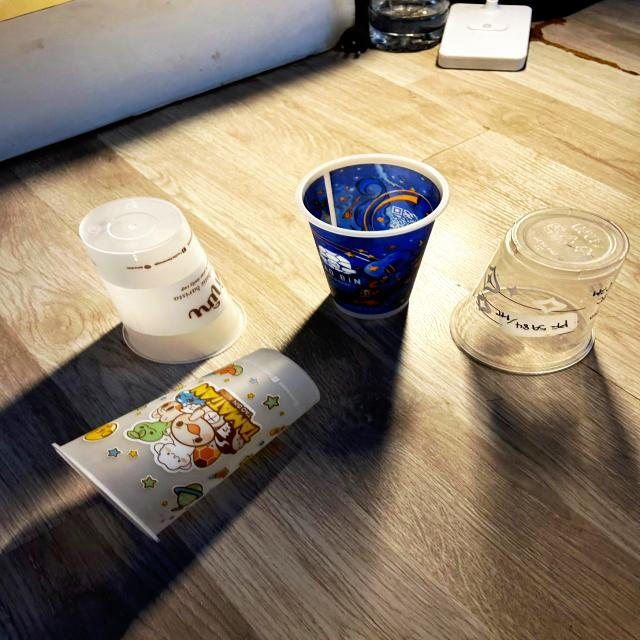Plastic Cup: (54, 348, 319, 539), (450, 209, 629, 374), (80, 197, 244, 364), (296, 155, 448, 318)
